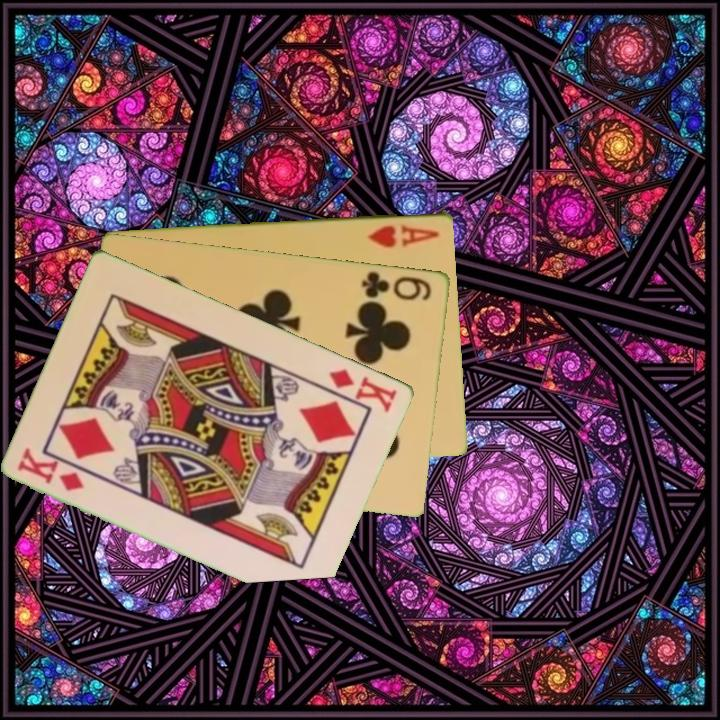6c: (358, 267, 435, 303)
Ah: (364, 221, 443, 250)
Kd: (326, 364, 401, 416), (14, 445, 88, 494)
